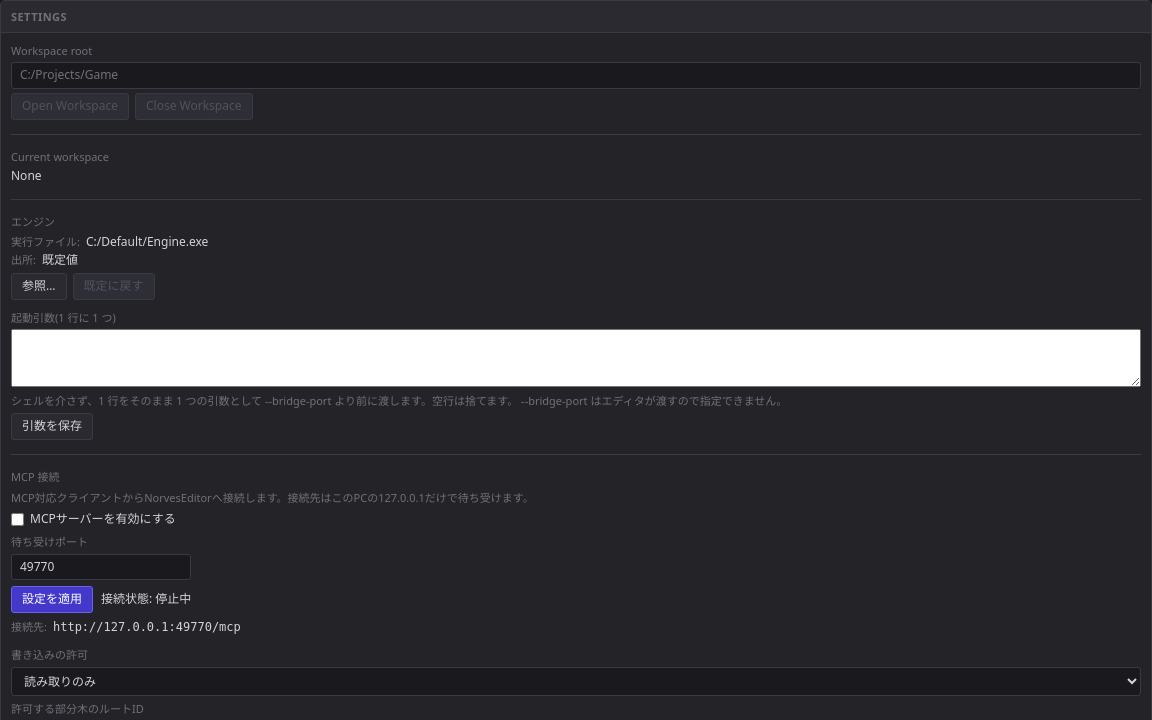
Test: SettingsPanel のエンジン欄 › 「参照…」で pick_engine_path を呼び、返った設定で表示を置き換える
Expected: the text with test id "engine-effective-path" reads "C:/Default/Engine.exe", x1=86 y1=233 x2=208 y2=250
Click the button "参照…": (39, 287) x1=11 y1=273 x2=66 y2=300
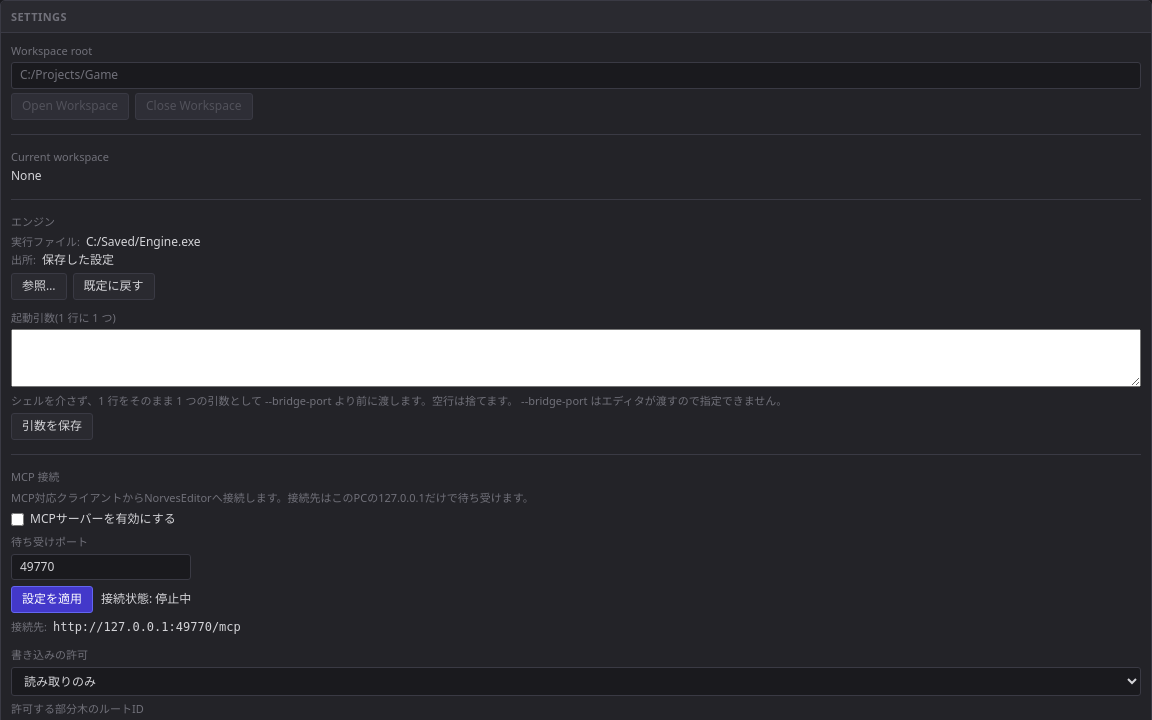
Expected: the text with test id "engine-effective-path" reads "C:/Saved/Engine.exe", x1=86 y1=233 x2=201 y2=250
Expected: the text with test id "engine-path-source" reads "保存した設定", x1=42 y1=251 x2=114 y2=268
